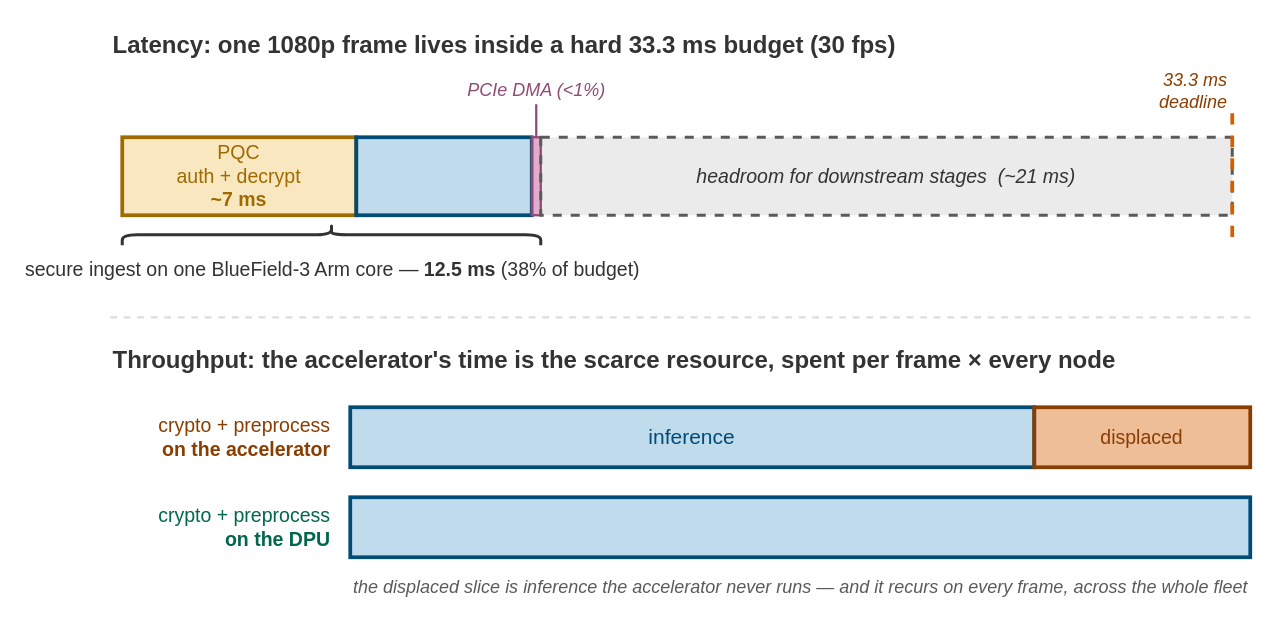
Image size: 1280x627. Some labels were removed from this diagram. The shapes that lost their labels are listed below. From the top down, each one's centre as x and y in pixels, then its label:
At (x=443, y=175): "decode + preprocess ~5 ms".
At (x=799, y=526): "inference (100% of SMs)".
